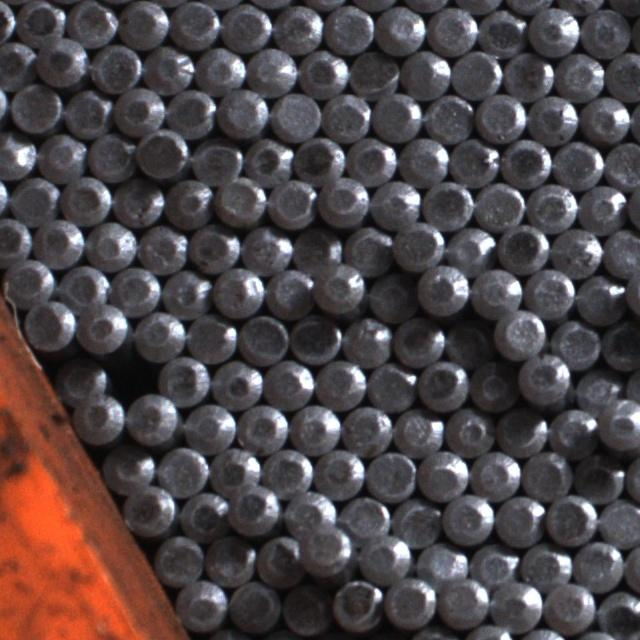tool: (22, 297, 77, 351), (489, 578, 544, 631), (125, 392, 178, 445), (236, 310, 288, 364), (330, 578, 382, 632), (518, 351, 569, 406), (89, 42, 142, 94), (416, 264, 469, 316), (8, 80, 61, 132), (356, 531, 409, 583), (76, 303, 128, 356), (123, 485, 175, 538), (229, 578, 280, 632), (289, 313, 341, 365), (184, 400, 236, 452), (384, 576, 436, 628), (214, 176, 266, 228), (544, 492, 596, 544), (136, 128, 188, 180), (133, 309, 185, 361), (152, 534, 204, 586), (207, 444, 259, 496), (100, 444, 152, 496), (498, 223, 551, 274), (186, 223, 239, 274), (175, 578, 228, 629), (284, 490, 337, 541), (55, 260, 109, 310), (210, 358, 262, 409), (59, 174, 110, 226), (365, 449, 416, 501), (438, 576, 489, 628), (369, 178, 420, 230), (216, 86, 268, 137), (184, 312, 236, 363), (289, 402, 340, 454), (203, 533, 254, 585), (212, 266, 264, 317), (112, 176, 164, 227), (392, 316, 443, 368), (72, 392, 124, 443), (301, 525, 352, 577), (1, 256, 52, 308), (318, 175, 368, 228), (281, 582, 331, 635), (158, 354, 209, 405), (370, 90, 421, 141), (157, 444, 208, 495), (165, 86, 216, 137), (393, 221, 444, 272), (228, 486, 279, 537), (266, 176, 316, 228), (474, 91, 524, 143), (263, 357, 315, 407), (265, 265, 315, 317), (313, 448, 365, 498), (112, 85, 164, 135), (521, 448, 571, 500), (391, 496, 441, 548), (468, 359, 518, 411), (416, 360, 467, 410), (471, 266, 521, 317), (272, 2, 322, 53), (442, 492, 492, 543), (237, 402, 287, 453), (160, 268, 211, 318), (496, 406, 547, 456), (33, 217, 83, 268), (342, 314, 392, 365), (110, 264, 160, 315), (315, 263, 365, 314), (422, 178, 473, 228), (548, 403, 598, 454), (36, 38, 87, 88), (177, 489, 227, 540), (242, 134, 293, 184), (62, 86, 111, 138), (494, 493, 543, 545), (261, 447, 313, 496), (580, 7, 630, 57), (528, 5, 578, 55), (86, 131, 136, 181), (418, 450, 468, 500), (450, 48, 500, 98), (240, 226, 290, 276), (270, 92, 320, 142), (470, 449, 520, 499), (527, 94, 577, 144), (574, 274, 624, 324), (316, 358, 366, 408), (144, 44, 194, 94), (365, 273, 415, 323), (524, 267, 574, 317), (494, 308, 544, 358), (478, 6, 528, 56), (339, 492, 389, 542), (56, 355, 106, 405), (137, 224, 186, 275), (254, 533, 303, 584), (448, 137, 499, 186), (296, 134, 348, 182), (9, 175, 58, 225), (428, 4, 478, 53), (552, 227, 602, 276), (423, 93, 472, 143), (555, 50, 604, 100), (367, 360, 416, 410), (324, 3, 374, 52), (321, 90, 370, 140), (86, 220, 136, 269), (502, 50, 552, 99), (474, 180, 523, 230), (579, 94, 628, 144), (342, 404, 391, 454), (399, 49, 449, 98), (501, 138, 551, 187), (545, 580, 594, 630), (572, 539, 621, 589), (576, 454, 626, 503), (344, 226, 393, 276), (292, 227, 342, 276), (191, 137, 242, 185), (415, 538, 466, 586), (221, 2, 270, 51), (248, 46, 297, 95), (553, 139, 602, 188), (170, 0, 219, 49), (399, 135, 448, 184), (528, 180, 578, 228), (552, 318, 602, 366), (298, 49, 348, 97), (165, 176, 213, 226), (118, 0, 168, 48), (195, 46, 245, 94), (443, 318, 493, 366), (376, 4, 425, 52), (578, 182, 626, 231), (445, 224, 494, 272), (349, 49, 397, 98), (67, 0, 116, 48), (38, 131, 86, 180), (347, 136, 396, 184), (17, 0, 67, 47), (519, 542, 570, 588), (393, 407, 441, 455), (445, 406, 493, 454), (572, 367, 622, 412), (598, 399, 640, 452), (470, 541, 517, 587), (598, 498, 640, 546), (597, 585, 640, 631), (601, 322, 640, 371), (602, 228, 640, 278), (604, 140, 640, 190), (0, 130, 36, 179), (605, 50, 640, 100), (0, 38, 35, 88), (0, 214, 29, 265)
